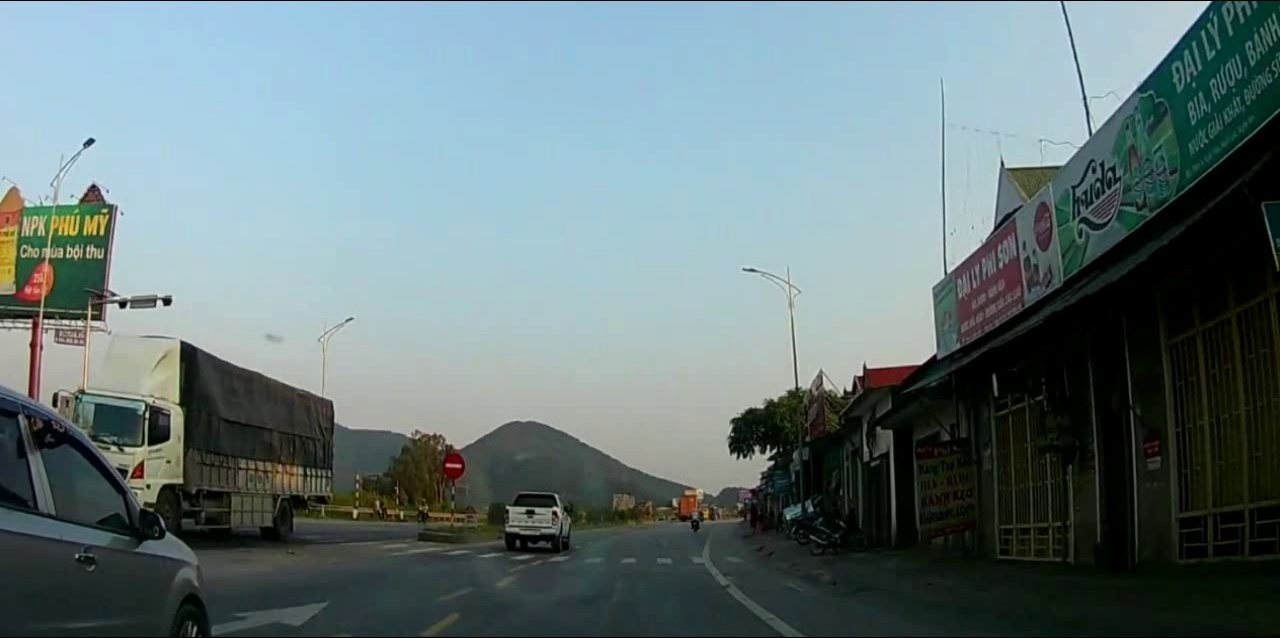Cam di nguoc chieu: (439, 450, 467, 483)
